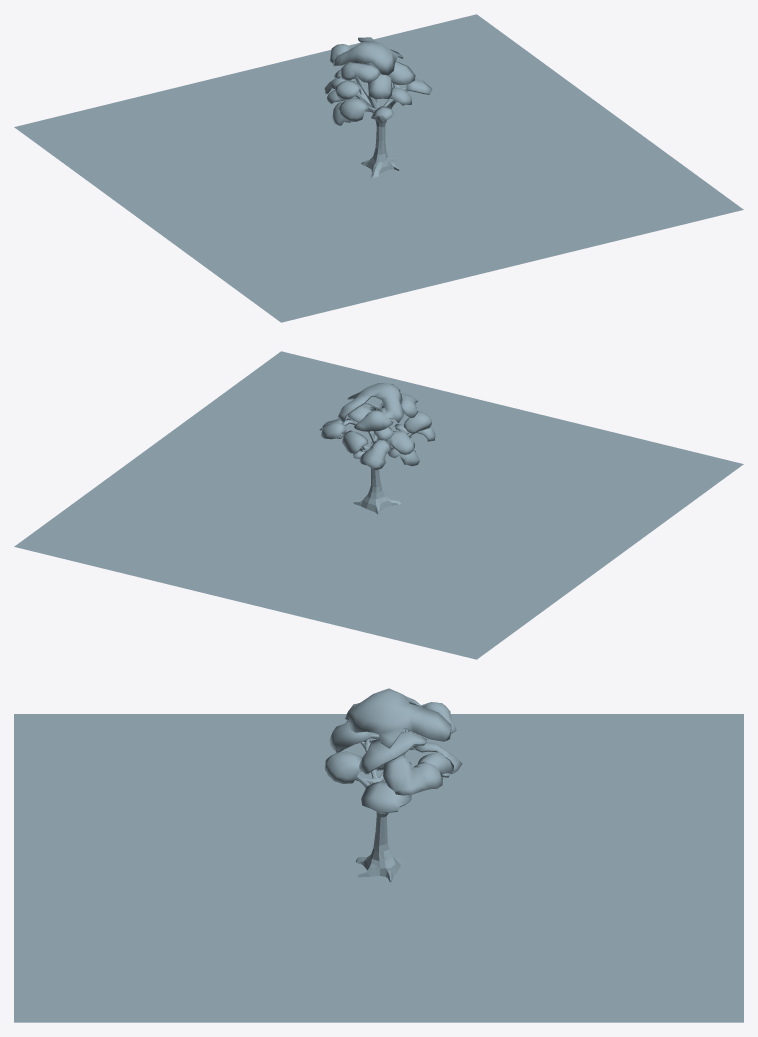
Rendered from Tile 60_Combined.fbx.
3 renders of one model, top to bottom at view 1: azimuth 30°, elevation 25°; view 2: azimuth 150°, elevation 25°; view 3: azimuth 270°, elevation 25°, orthographic. The views are drawn at different scales.
Parts seen in each view (by area): view 1: MeshBaker_mesh_mesh; view 2: MeshBaker_mesh_mesh; view 3: MeshBaker_mesh_mesh.
Part boxes in pixels (<box>): MeshBaker_mesh_mesh: <box>14,14,743,322</box>; MeshBaker_mesh_mesh: <box>14,351,743,659</box>; MeshBaker_mesh_mesh: <box>14,688,743,1022</box>.
Bounding box in the file's own units: 3000 × 770 × 3000.
